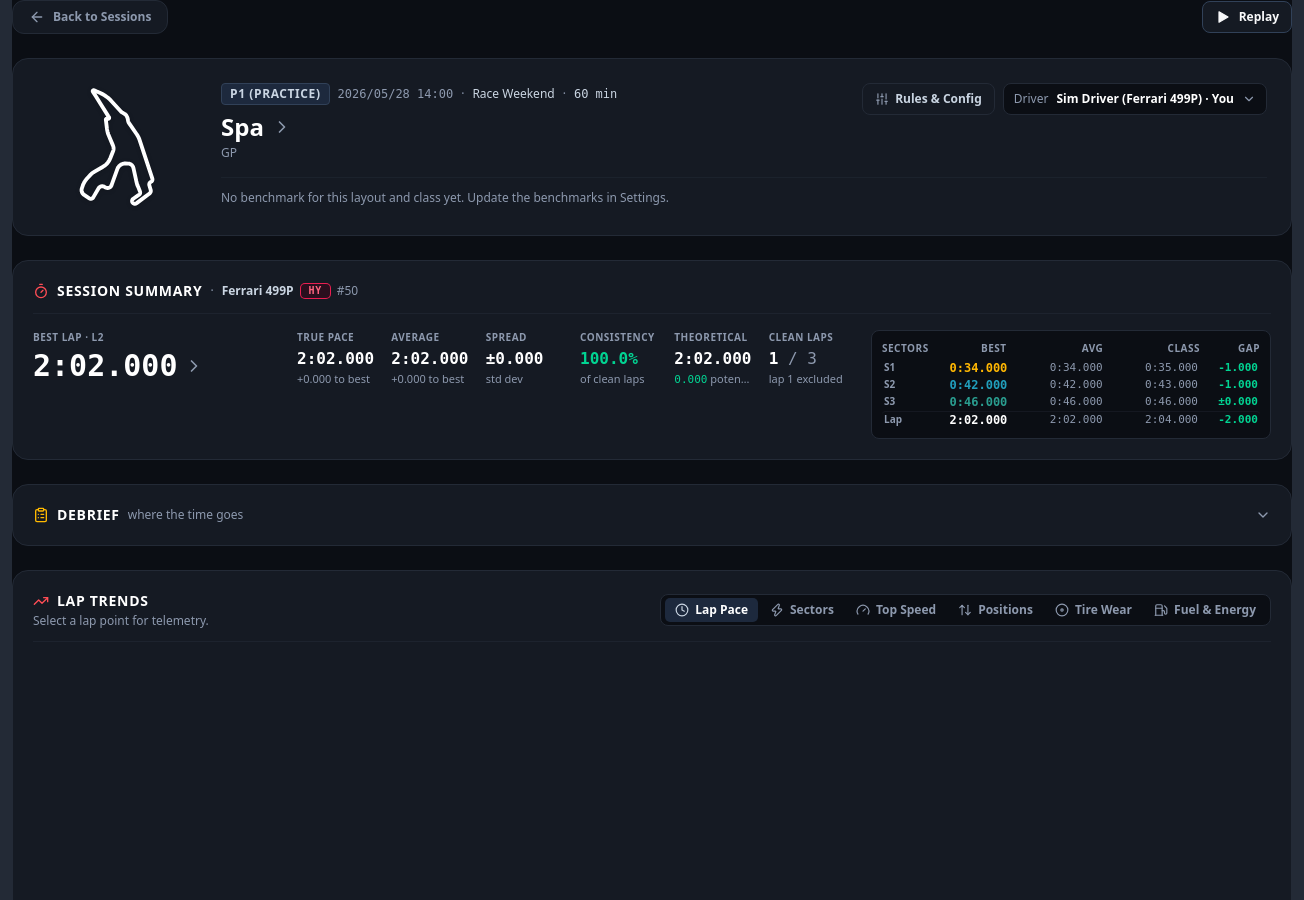
Test: SessionDetail component - overview, telemetry & settings › switches to Fuel & Energy chart metric and displays stint strategy banner on top of chart
This screenshot has width=1304, height=900.
Expected: the text "Avg Fuel Usage" is not shown
# Click Fuel & Energy toggle
Step 1. Click the button "Fuel & Energy" → (1205, 610), box x1=1144 y1=598 x2=1266 y2=622
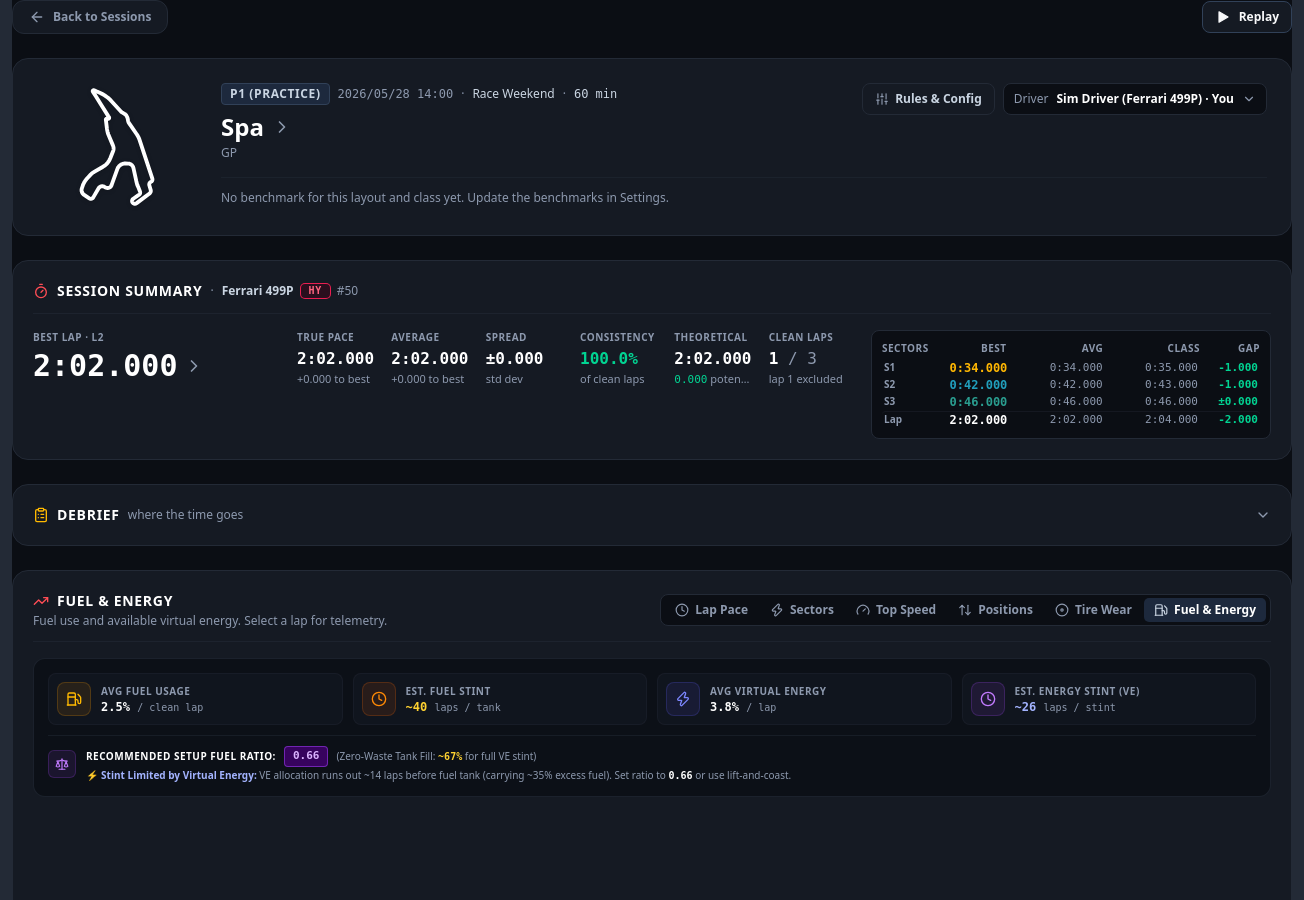
Now the heading "Fuel & energy" is shown, box x1=33 y1=591 x2=173 y2=610
Now the text "Avg Fuel Usage" is shown, box x1=101 y1=684 x2=203 y2=698
Now the text "2.5% / clean lap" is shown, box x1=101 y1=698 x2=203 y2=714
